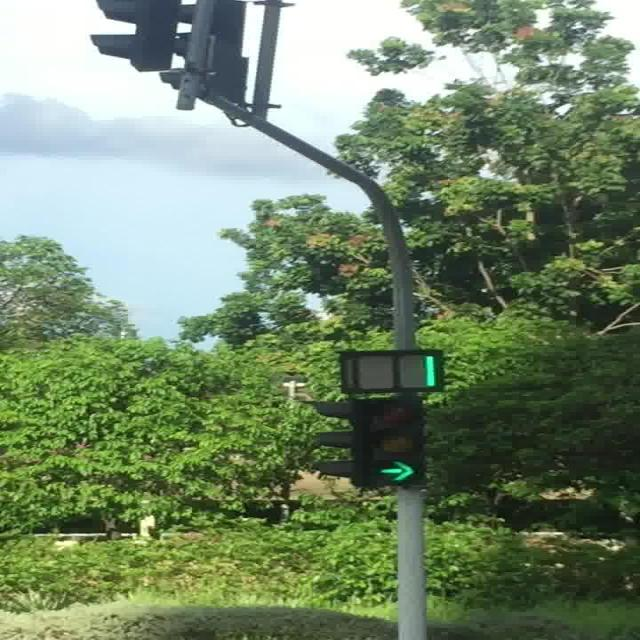traffic light: (312, 398, 423, 488), (88, 0, 181, 73), (361, 398, 425, 487), (339, 349, 444, 395), (313, 400, 361, 486)
